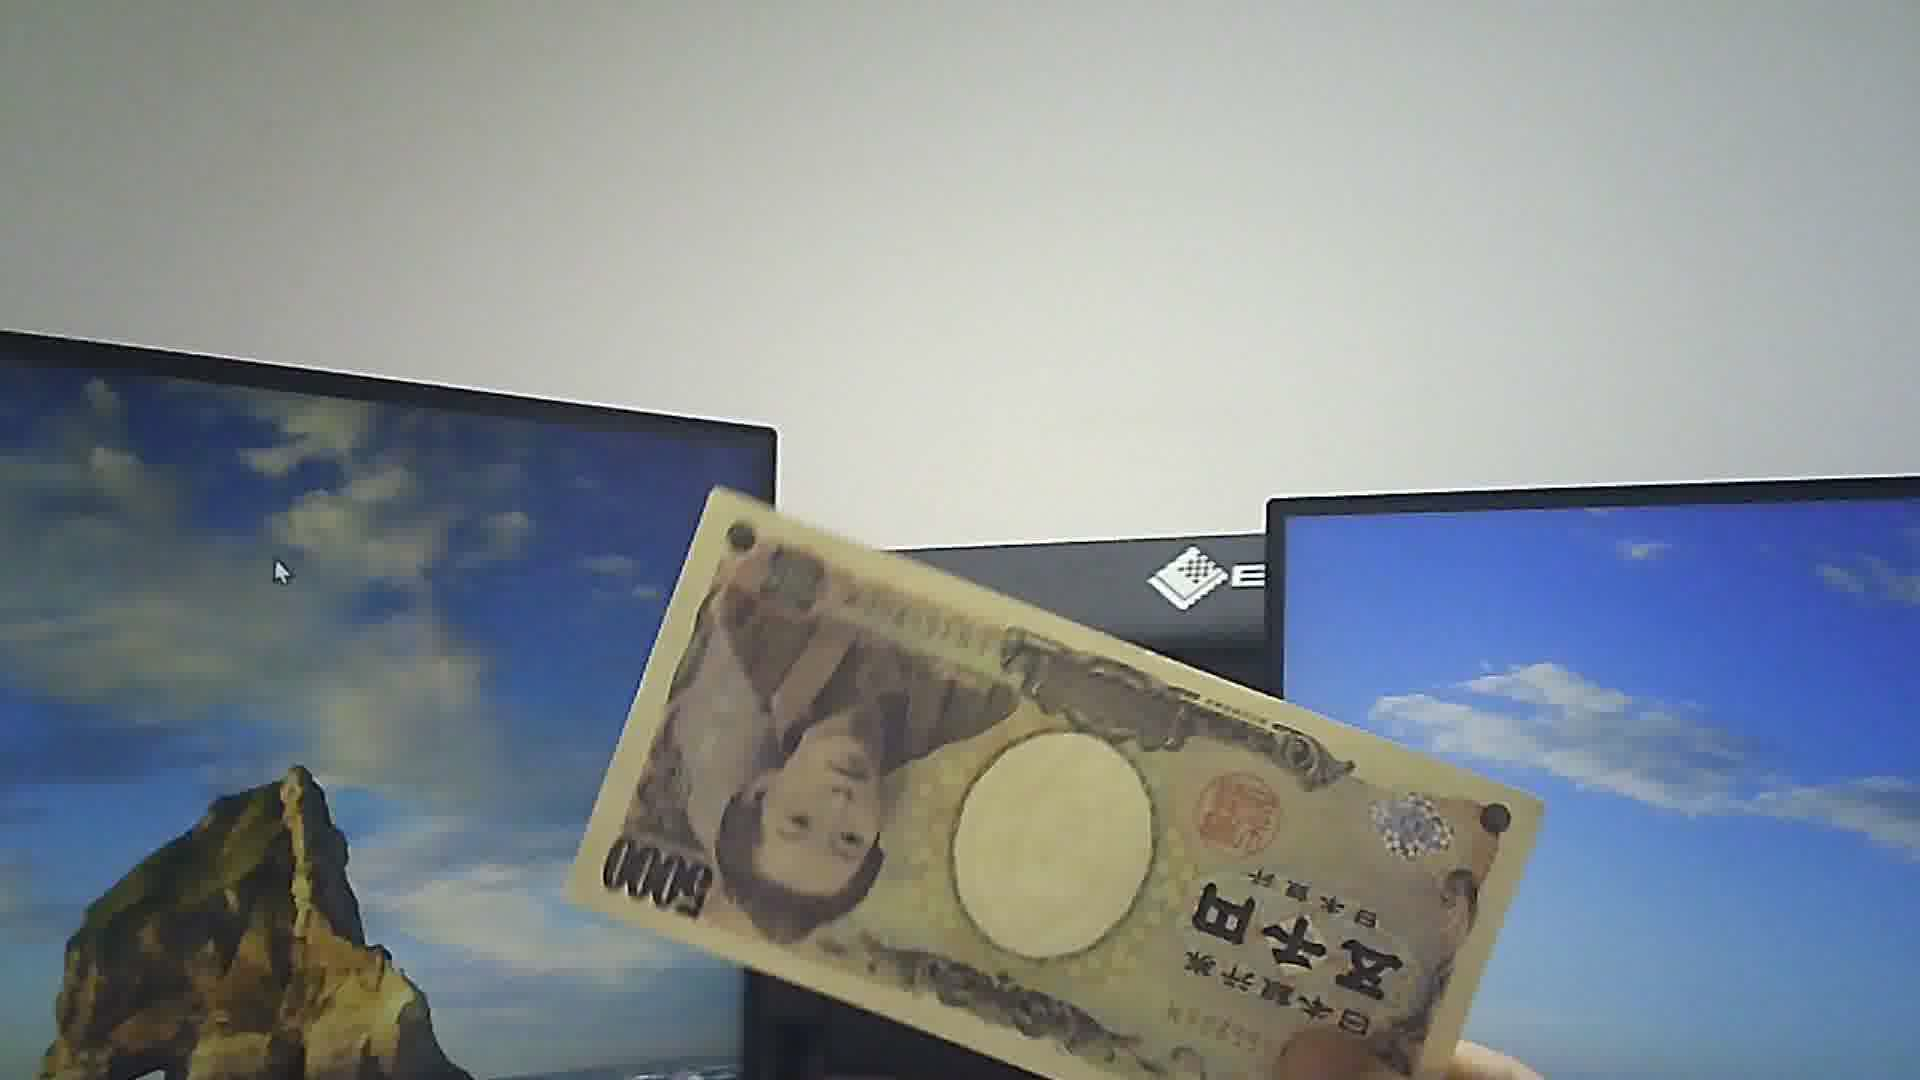5,000 Yen: (564, 483, 1556, 1065)
